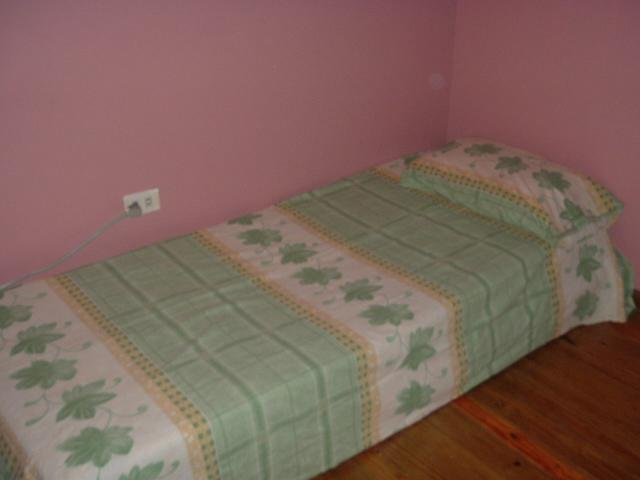Cama: (6, 129, 597, 471)
